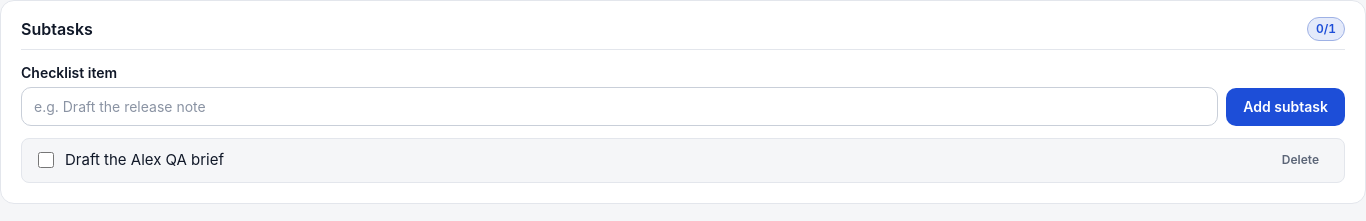
ChecklistPanel › ticks an item, saving done and re-rendering immediately
Click the checkbox labelled "Draft the Alex QA brief" at (46, 160), box left=38, top=152, right=54, bottom=168
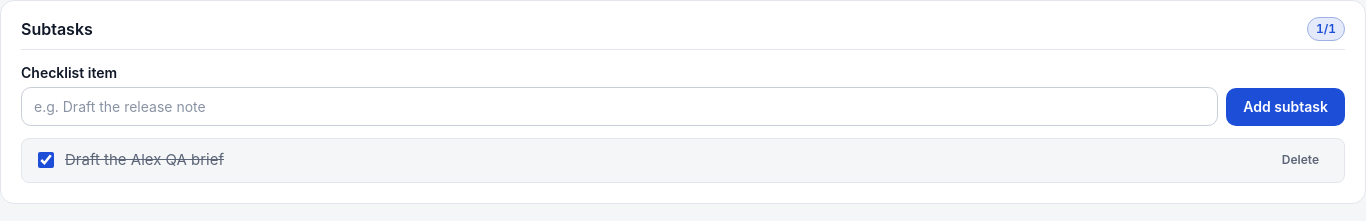
Check: the checkbox labelled "Draft the Alex QA brief" is checked, box left=38, top=152, right=54, bottom=168
Check: the text with test id "checklist-progress" reads "1/1", box left=1316, top=21, right=1336, bottom=36
